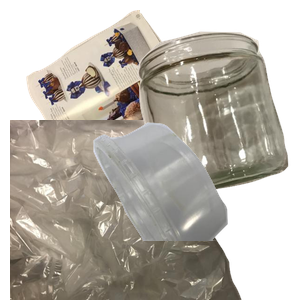glass: (135, 29, 300, 209)
paper: (24, 10, 235, 190)
plastic: (91, 120, 300, 300)
trash: (10, 120, 244, 300)
